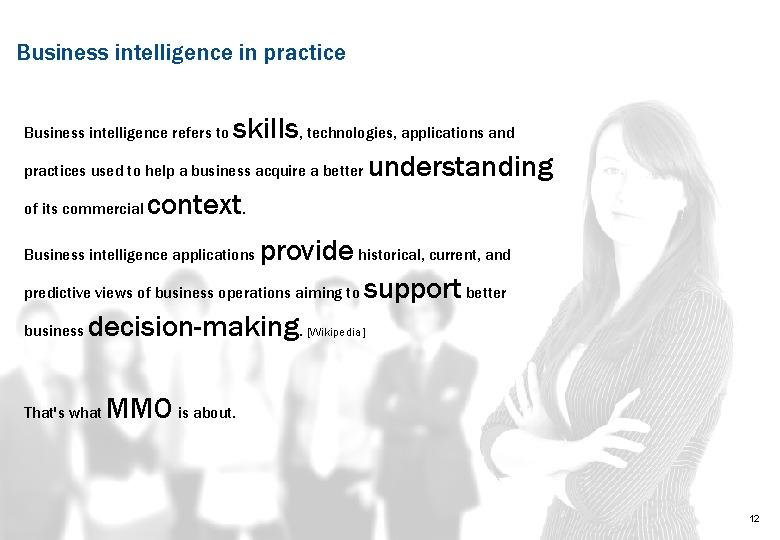paragraph: (10, 108, 594, 459)
title: (13, 27, 377, 82)
